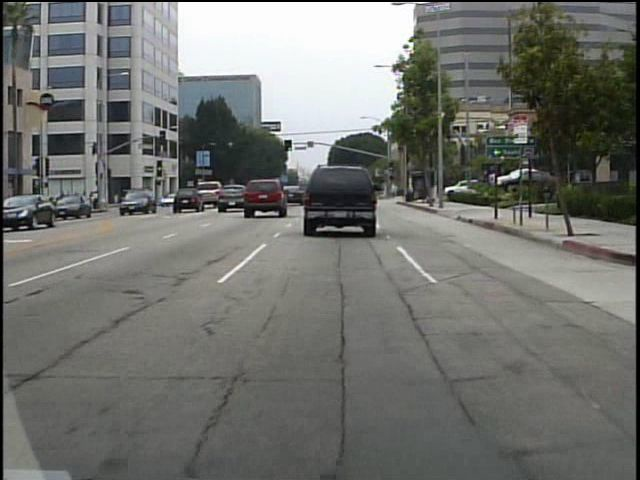person: (134, 186, 145, 208), (387, 181, 398, 201)
